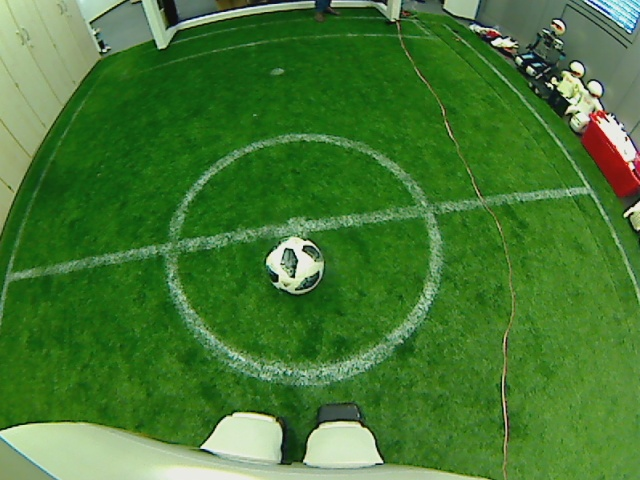ball: (263, 234, 325, 295)
